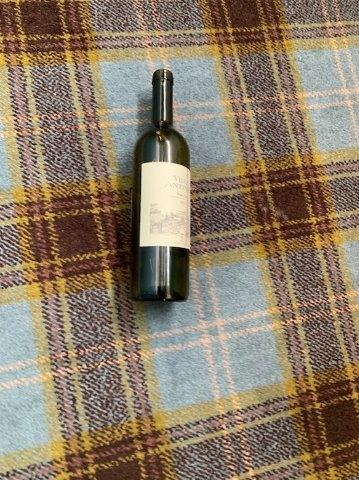botolkaca: (127, 69, 190, 302)
